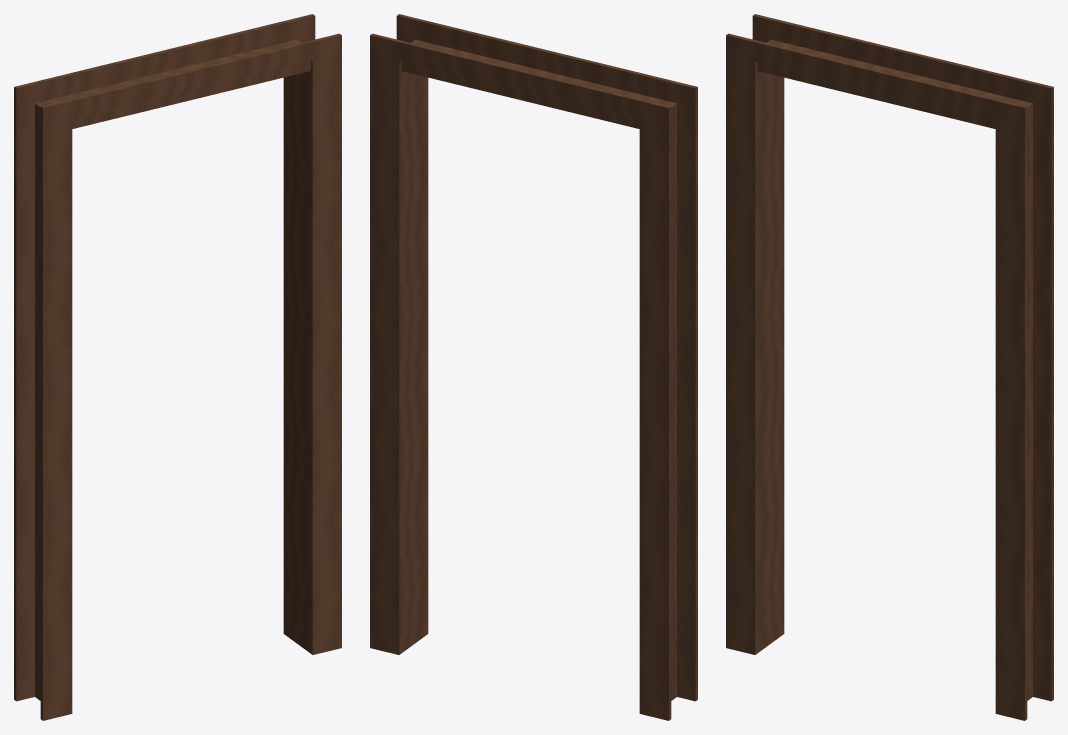
File: mlo_door_frame_walnut.glb
3 views of the same model, side by side, from view 1: azimuth 30°, elevation 25°; view 2: azimuth 150°, elevation 25°; view 3: azimuth 330°, elevation 25° (orthographic).
Parts seen in each view (by area): view 1: Door_Frame_Walnut; view 2: Door_Frame_Walnut; view 3: Door_Frame_Walnut.
Part boxes in pixels (box(x1,y1,x2,y2)): Door_Frame_Walnut: box(14, 14, 341, 720); Door_Frame_Walnut: box(370, 14, 697, 720); Door_Frame_Walnut: box(726, 14, 1053, 720).
Bounding box in the file's own units: 1.13 × 2.21 × 0.19.
Materials: 1 (1 with a texture image).
